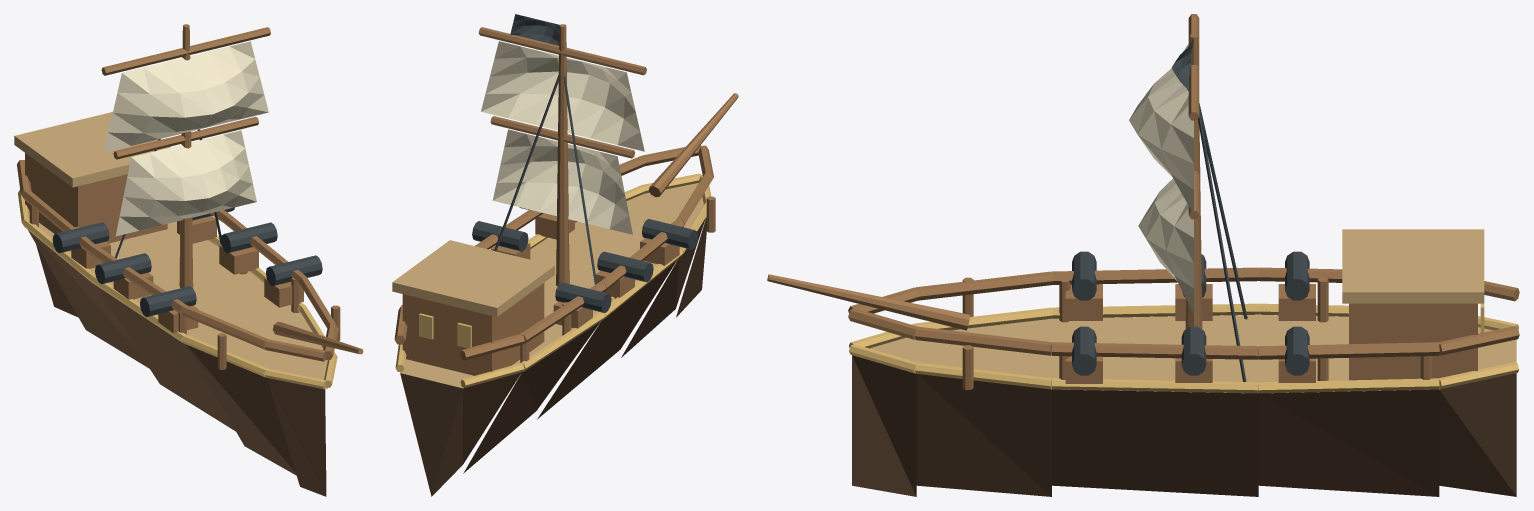
Rendered from ship_main_06.glb.
The picture shows the model from 3 angles, left to right: view 1: azimuth 30°, elevation 25°; view 2: azimuth 150°, elevation 25°; view 3: azimuth 270°, elevation 25°; orthographic projection. The views are drawn at different scales.
Visible parts, largest first — view 1: ship_small; view 2: ship_small; view 3: ship_small.
Part boxes in pixels (x1=…): ship_small: x1=14, y1=24, x2=363, y2=496; ship_small: x1=392, y1=14, x2=738, y2=496; ship_small: x1=767, y1=14, x2=1519, y2=496.
Bounding box in the file's own units: 1.96 × 4.1 × 6.06.
